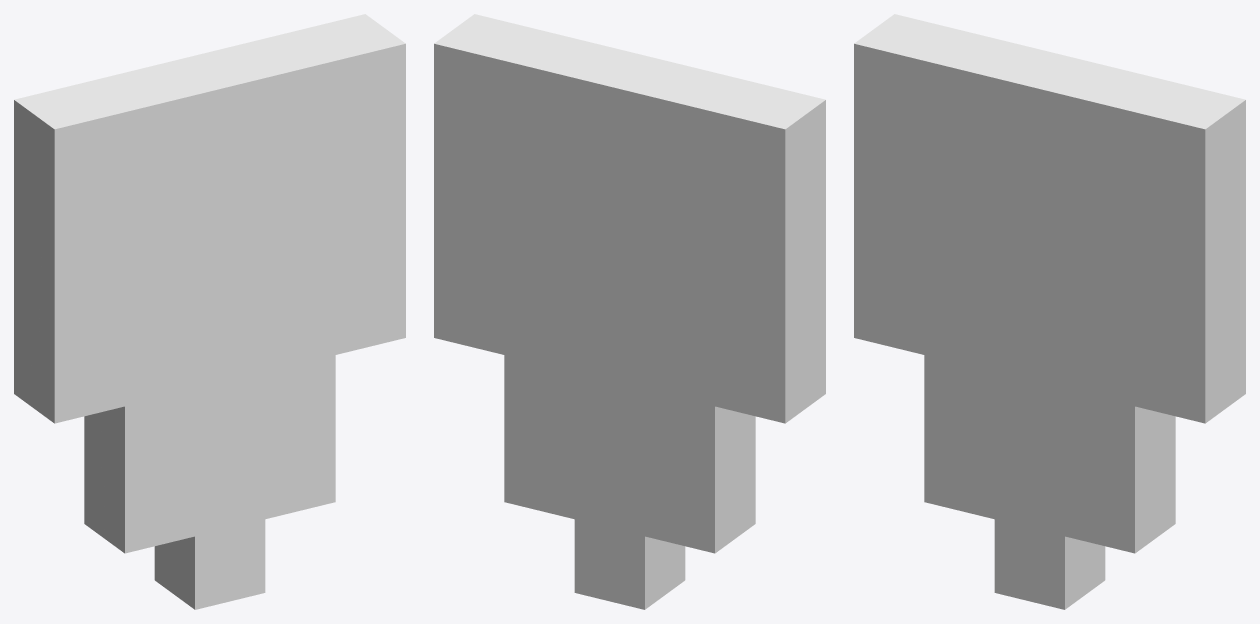
The model's file is Shield-Small-White.vox.obj.
The picture shows the model from 3 angles, left to right: view 1: azimuth 30°, elevation 25°; view 2: azimuth 150°, elevation 25°; view 3: azimuth 330°, elevation 25°; orthographic projection.
Bounding box in the file's own units: 0.5 × 0.7 × 0.1.
Materials: 1 (1 with a texture image).
